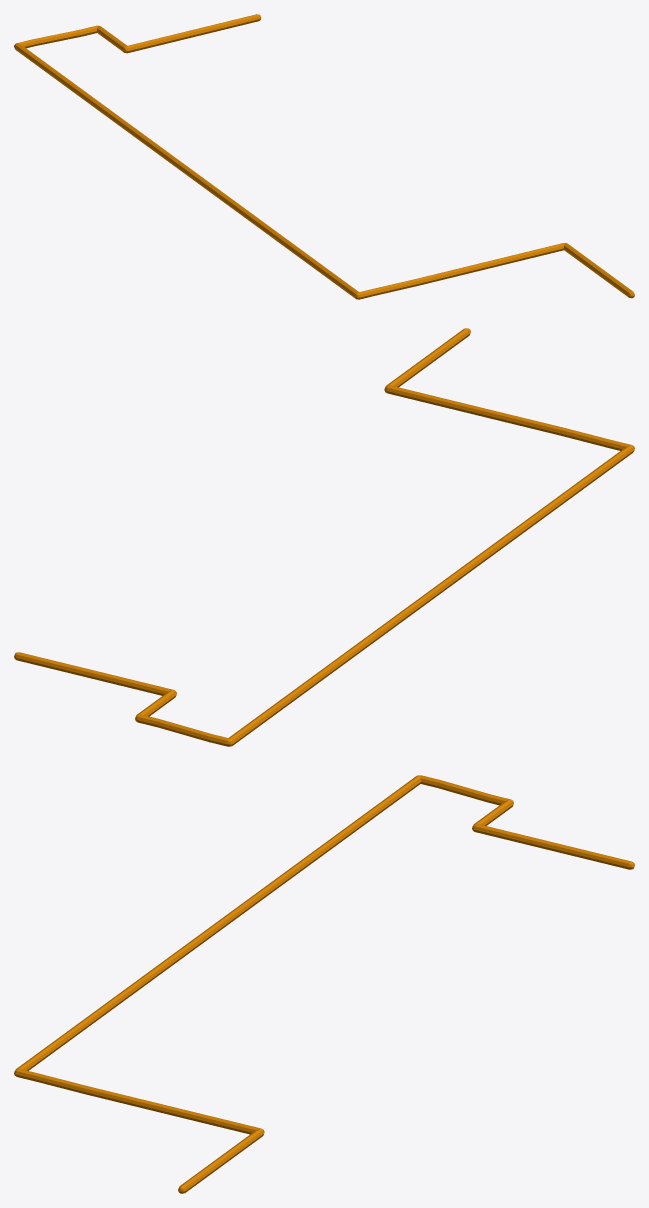
3 renders of one model, top to bottom at view 1: azimuth 30°, elevation 25°; view 2: azimuth 150°, elevation 25°; view 3: azimuth 330°, elevation 25°, orthographic. The views are drawn at different scales.
Size of the model in its own units: 660 by 20 by 2173.
